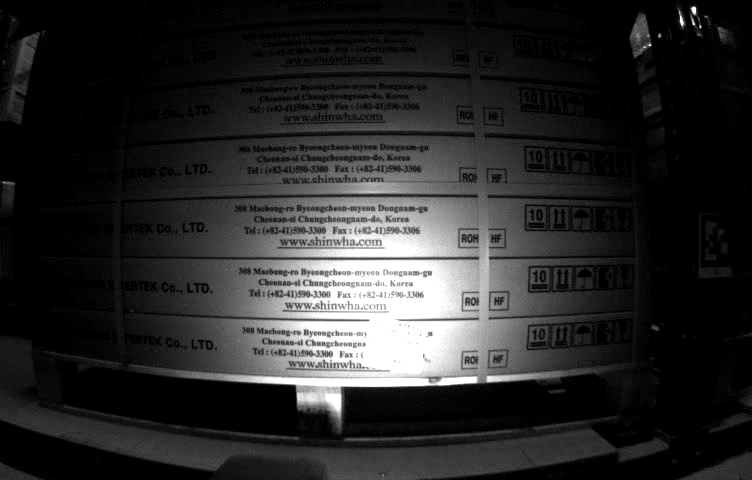True Barcode: (364, 315, 423, 372)
